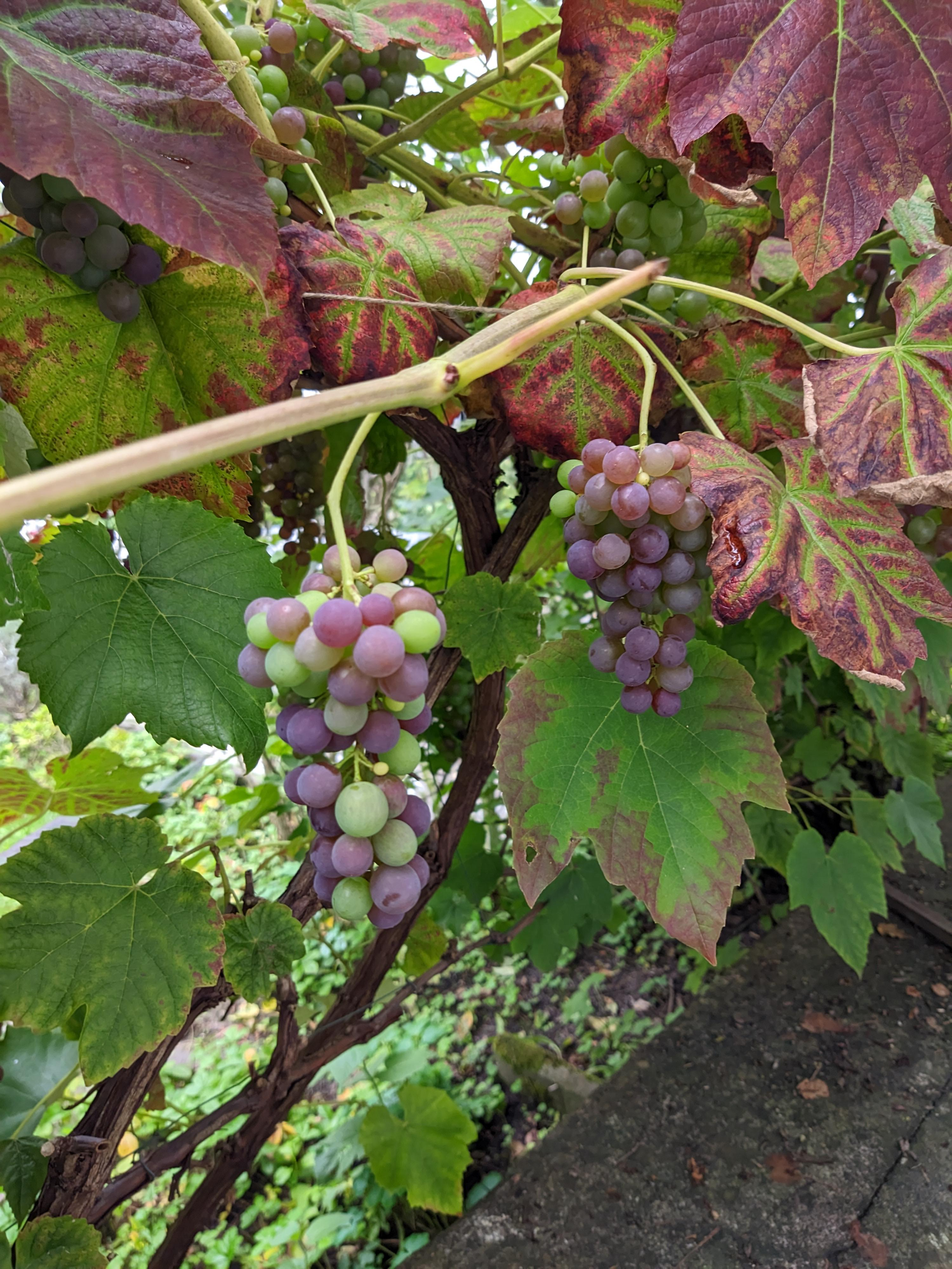Grape Unripe: (233, 544, 444, 931), (549, 431, 717, 717), (223, 0, 423, 215), (549, 128, 720, 319), (0, 166, 165, 323), (253, 421, 333, 564), (891, 504, 952, 574)
